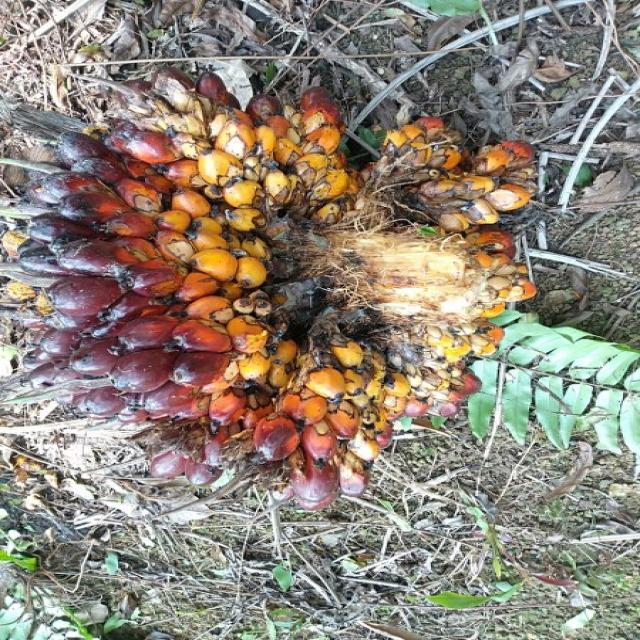fraksi 1: (0, 0, 610, 555)
